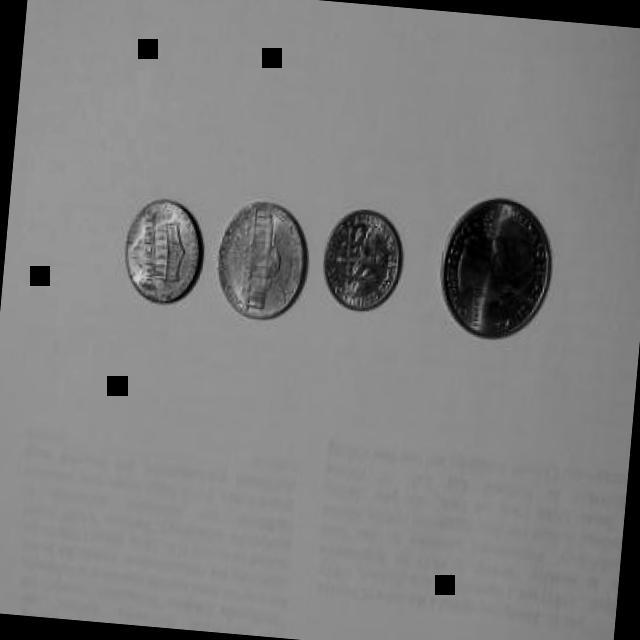Dime: (314, 205, 411, 318)
Nickel: (212, 192, 314, 328)
Penny: (120, 191, 208, 311)
Quarter: (434, 190, 556, 346)
